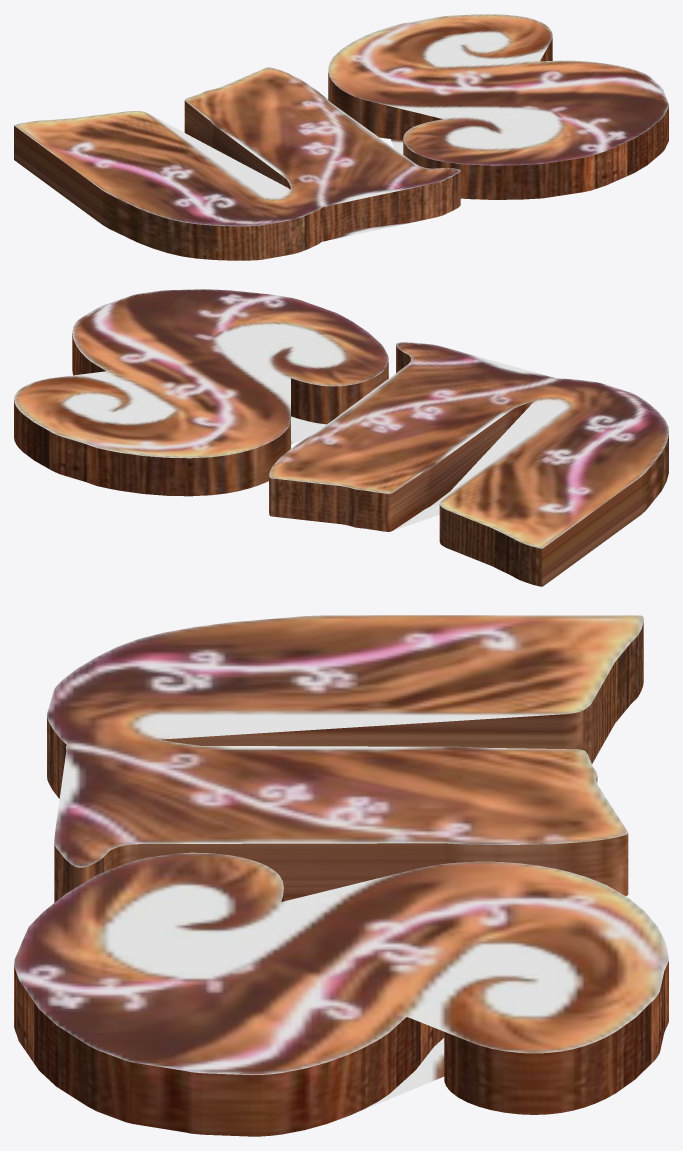
File: FICUSIA (US).fbx
3 renders of one model, top to bottom at view 1: azimuth 30°, elevation 25°; view 2: azimuth 150°, elevation 25°; view 3: azimuth 270°, elevation 25°, orthographic. The views are drawn at different scales.
Parts seen in each view (by area): view 1: Trace.011, Trace.010; view 2: Trace.011, Trace.010; view 3: Trace.010, Trace.011.
Part boxes in pixels (x1,y1,x2,y2): Trace.011: (14, 67, 460, 260); Trace.010: (328, 14, 668, 199); Trace.011: (269, 342, 668, 586); Trace.010: (14, 289, 388, 496); Trace.010: (14, 852, 668, 1136); Trace.011: (47, 615, 643, 902).
Size of the model in its own units: 85.87 by 5.35 by 51.69.
